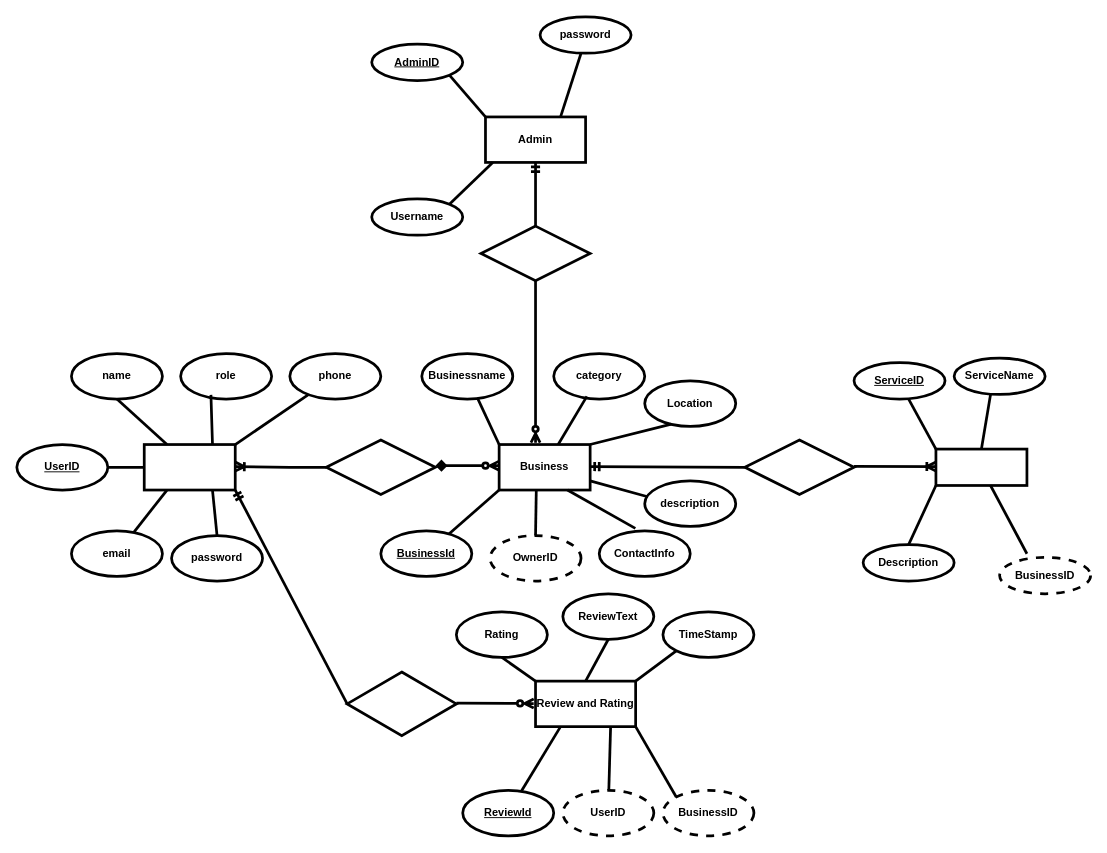
Image size: 1107x853. Some labels were removed from this diagram. The shapes that lost their labels are listed below. From the top down, each one's box as (x1, y1, x2, y2) in pixels, then its label:
(479, 224, 591, 282): Approves
(142, 443, 236, 491): User
(324, 438, 436, 495): owns
(743, 438, 855, 495): Provides
(934, 447, 1028, 486): Services
(345, 670, 457, 737): writes
